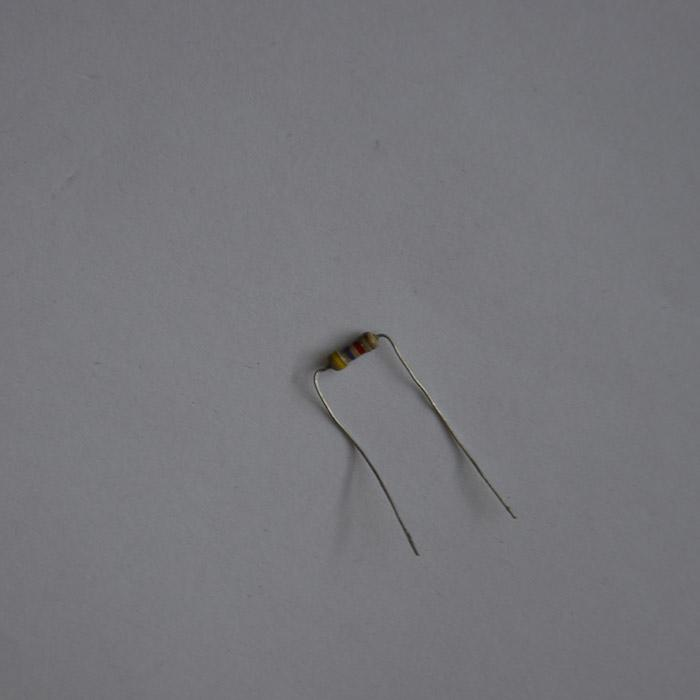resistor: (324, 330, 379, 372)
